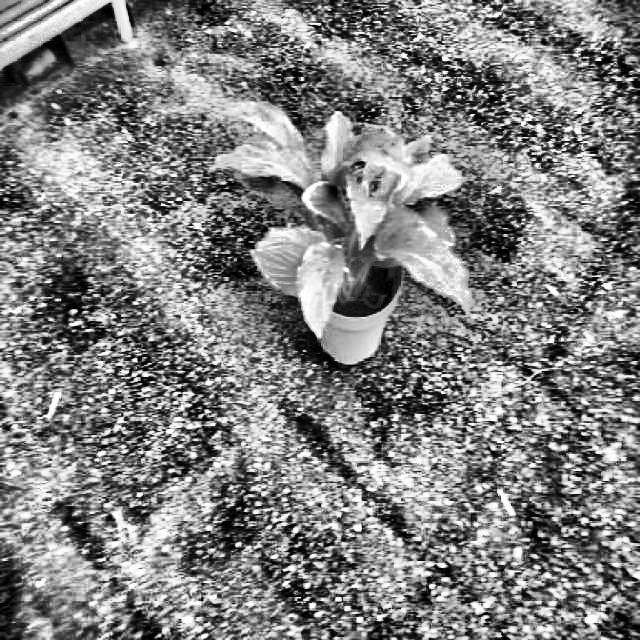plants: (203, 93, 482, 336)
